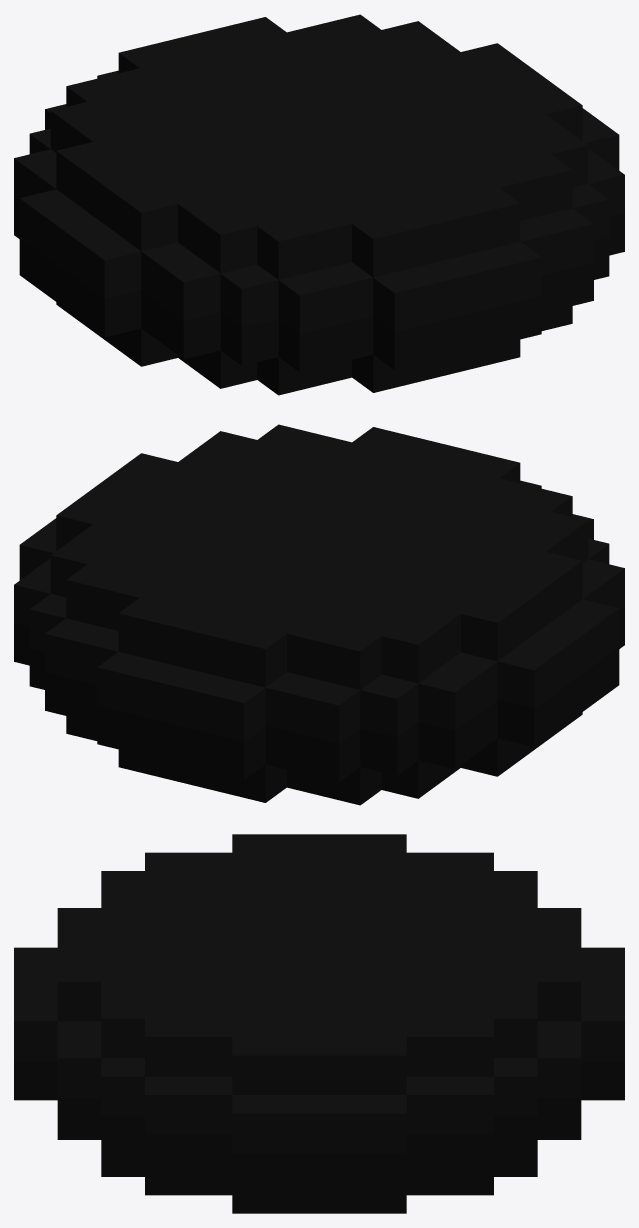
The model's file is burnt.obj.
3 views of the same model, one above another, from view 1: azimuth 30°, elevation 25°; view 2: azimuth 150°, elevation 25°; view 3: azimuth 270°, elevation 25° (orthographic). The views are drawn at different scales.
Bounding box in the file's own units: 1.4 × 0.4 × 1.4.
